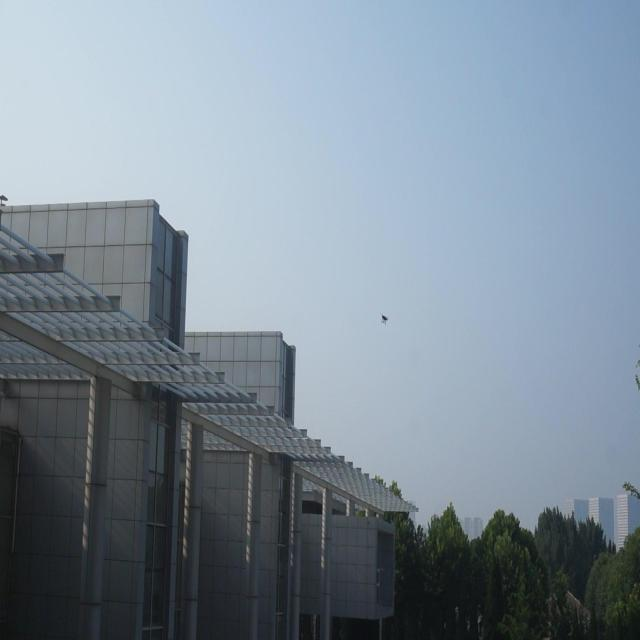drone: (380, 310, 390, 328)
